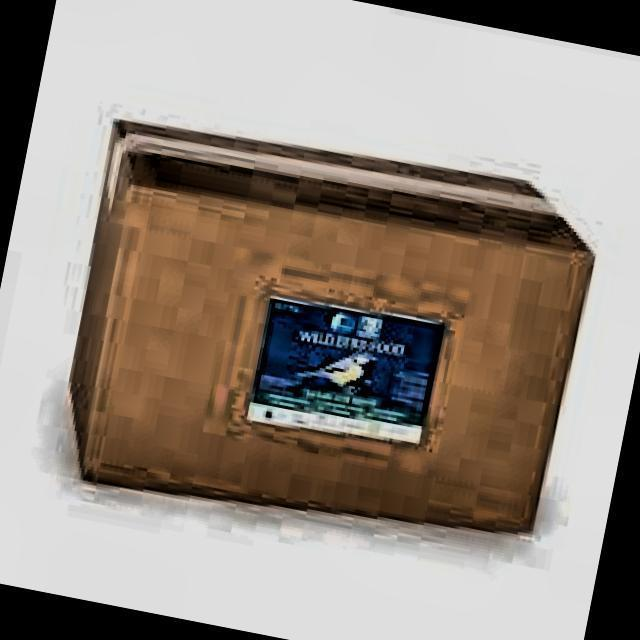cardboard: (42, 98, 608, 568)
